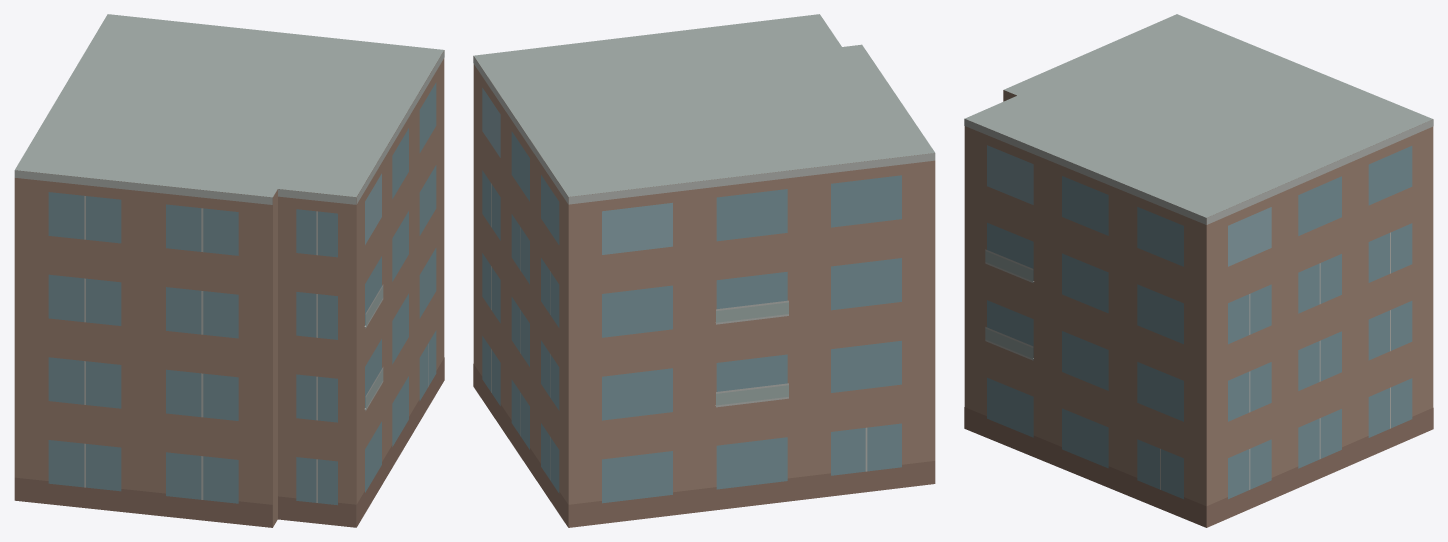
Rendered from survey-upis-32976166.glb.
3 views of the same model, side by side, from view 1: azimuth 30°, elevation 25°; view 2: azimuth 150°, elevation 25°; view 3: azimuth 270°, elevation 25° (orthographic). The views are drawn at different scales.
Parts seen in each view (by area): view 1: survey-upis-32976166.tmp; view 2: survey-upis-32976166.tmp; view 3: survey-upis-32976166.tmp.
Part boxes in pixels (x1=…): survey-upis-32976166.tmp: x1=14, y1=14, x2=444, y2=527; survey-upis-32976166.tmp: x1=473, y1=14, x2=935, y2=527; survey-upis-32976166.tmp: x1=964, y1=14, x2=1433, y2=527.
Size of the model in its own units: 14.83 by 10.51 by 14.41.
